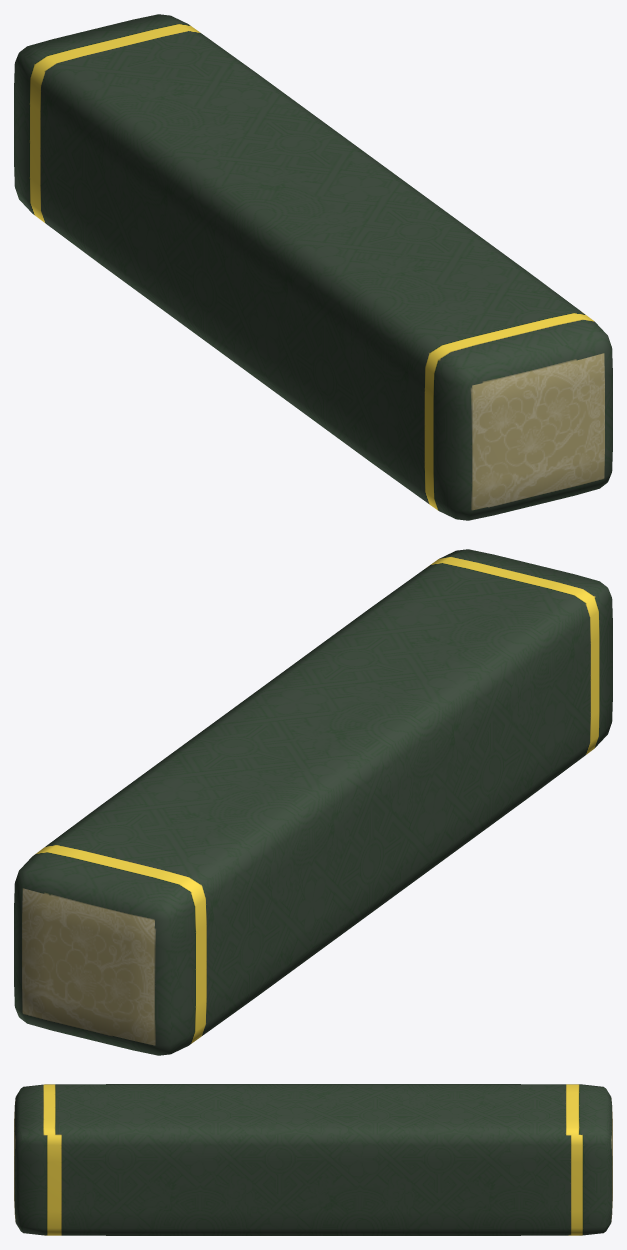
Rendered from Floor_armrest.fbx.
3 views of the same model, one above another, from view 1: azimuth 30°, elevation 25°; view 2: azimuth 150°, elevation 25°; view 3: azimuth 270°, elevation 25° (orthographic). The views are drawn at different scales.
Parts seen in each view (by area): view 1: Floor armrest; view 2: Floor armrest; view 3: Floor armrest.
Boxes of the visible parts, left/top/right/bottom form: Floor armrest: left=14, top=14, right=612, bottom=520; Floor armrest: left=14, top=549, right=612, bottom=1055; Floor armrest: left=14, top=1084, right=612, bottom=1235.
Size of the model in its own units: 27.19 by 25.53 by 127.
